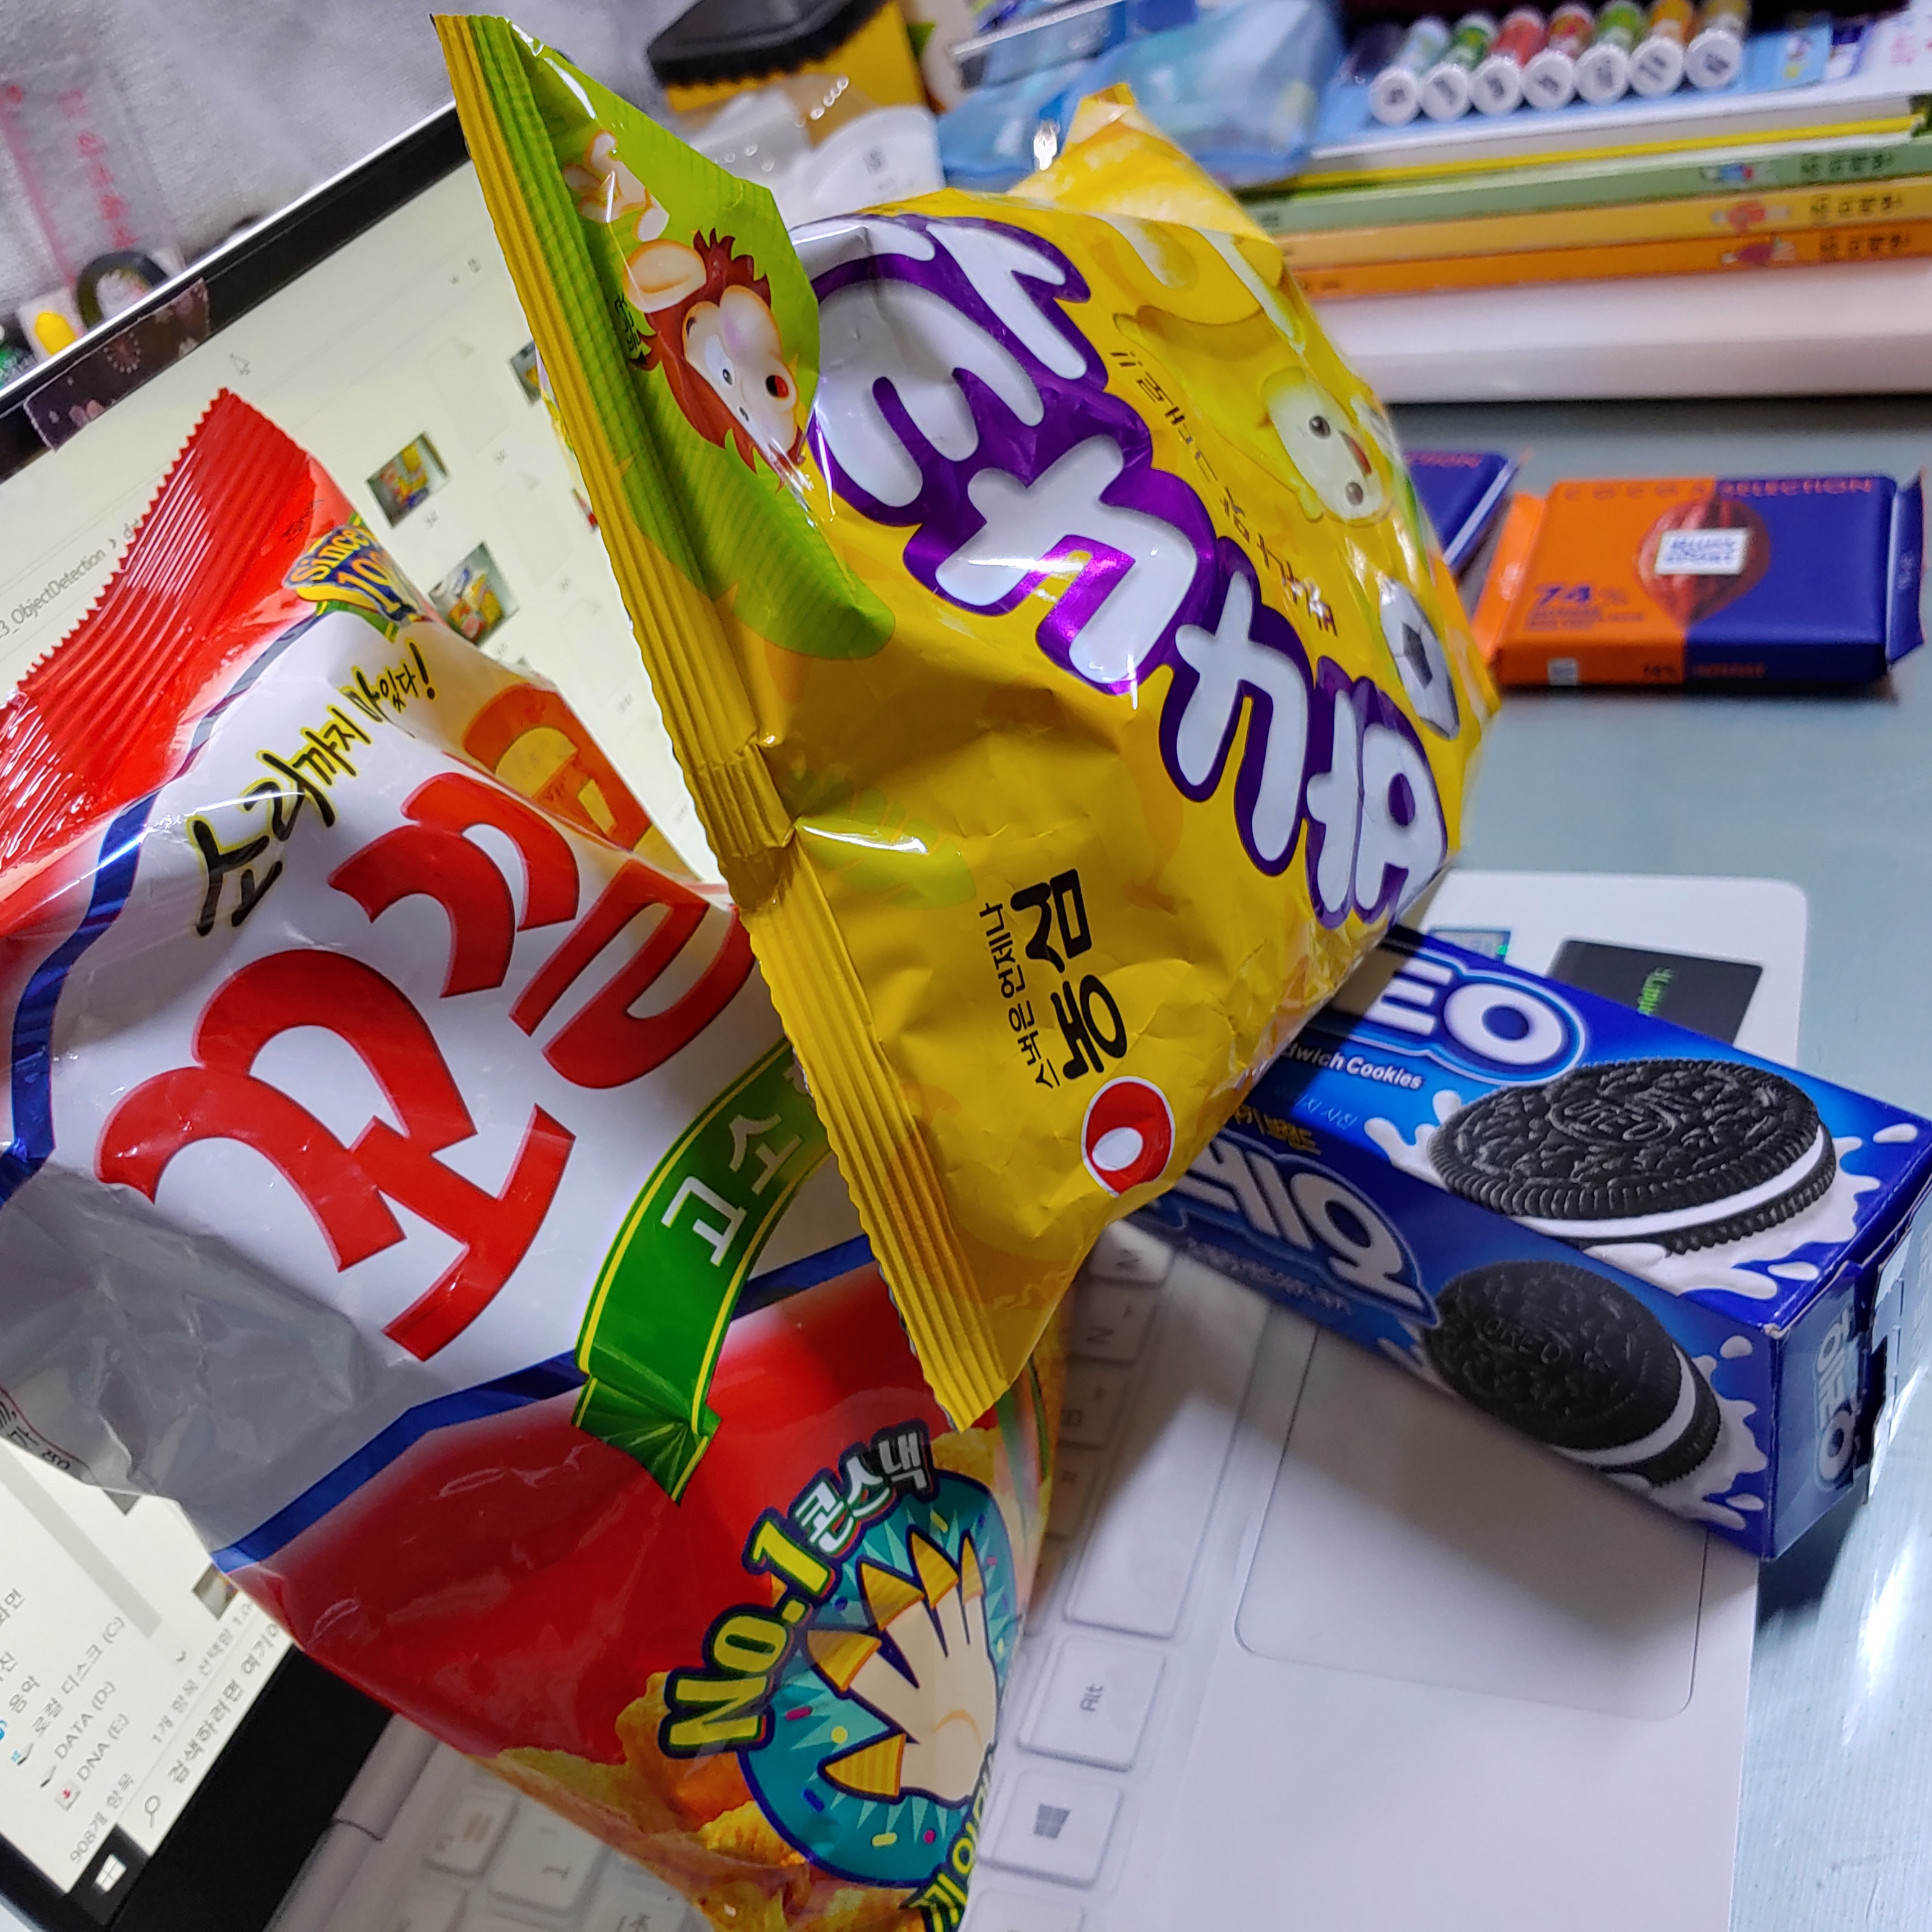banana: (345, 0, 1514, 1315)
ggoggalcon: (0, 366, 1122, 1932)
oreo: (1131, 803, 1932, 1622)
